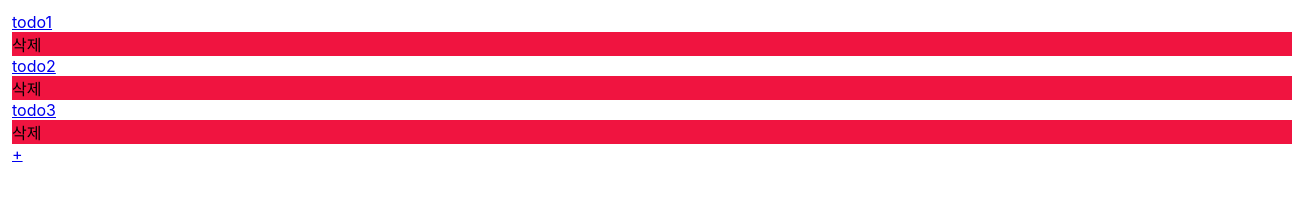
<List /> › should route to detail page from home
Click the link "todo2" at (34, 66), box top-left (12, 56), bottom-right (56, 76)
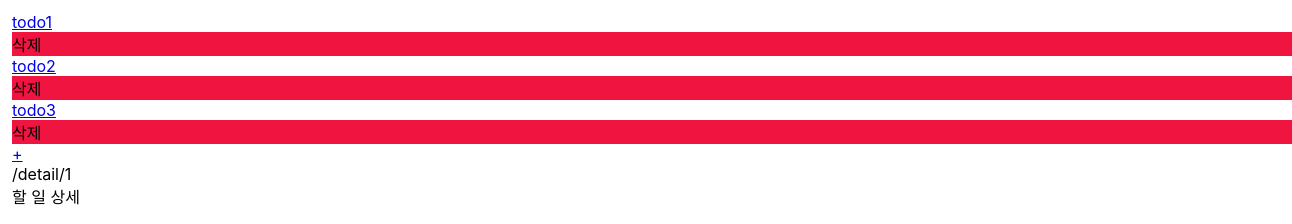
Expected: the text "할 일 상세" is shown, top-left (12, 187), bottom-right (80, 207)
Expected: the text "/detail/1" is shown, top-left (12, 164), bottom-right (71, 184)
